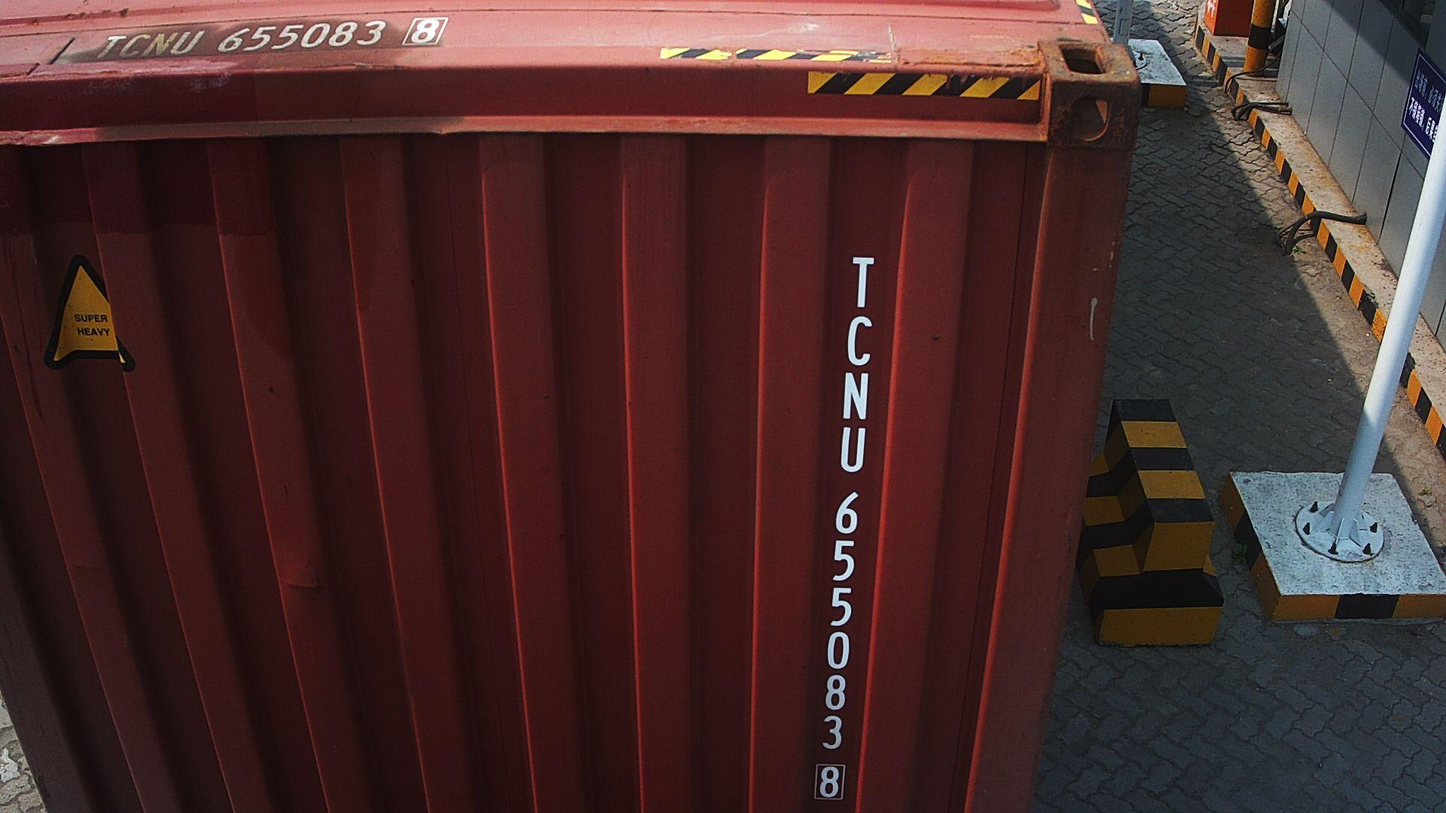container-numbers: (803, 249, 881, 807), (75, 14, 454, 63)
